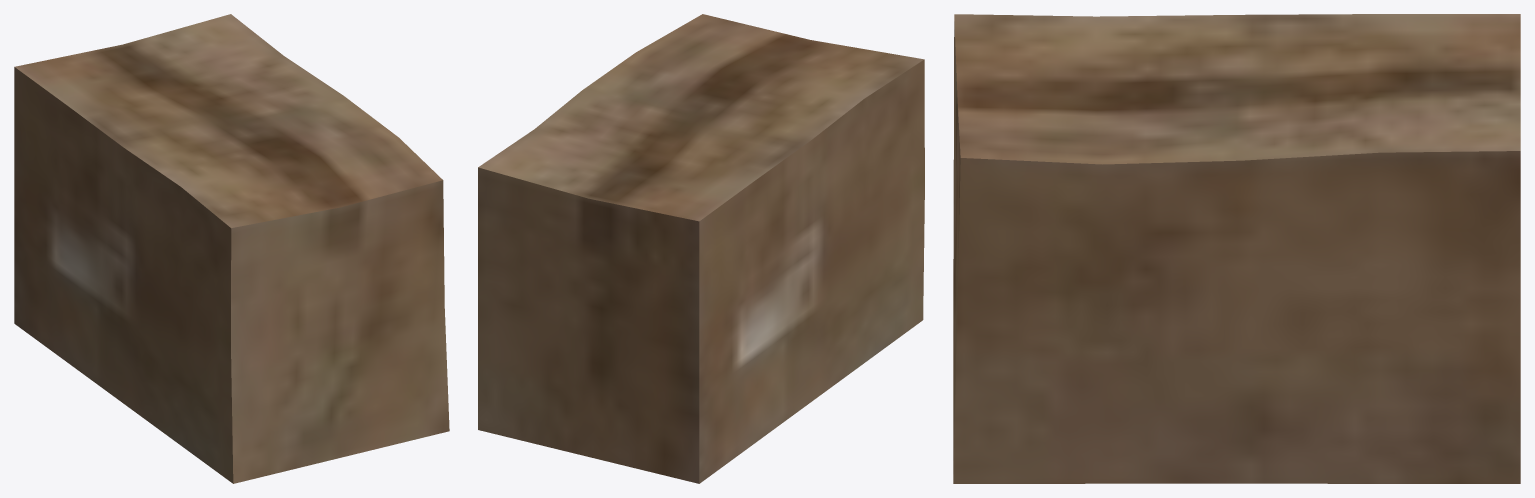
3 views of the same model, side by side, from view 1: azimuth 30°, elevation 25°; view 2: azimuth 150°, elevation 25°; view 3: azimuth 270°, elevation 25° (orthographic). The views are drawn at different scales.
Parts seen in each view (by area): view 1: Box_V1.001; view 2: Box_V1.001; view 3: Box_V1.001.
Boxes of the visible parts, <box> form: Box_V1.001: <box>14,14,449,483</box>; Box_V1.001: <box>478,14,924,483</box>; Box_V1.001: <box>953,14,1520,483</box>.
Bounding box in the file's own units: 0.3099 × 0.3371 × 0.5199.
1 material, 1 textured.
